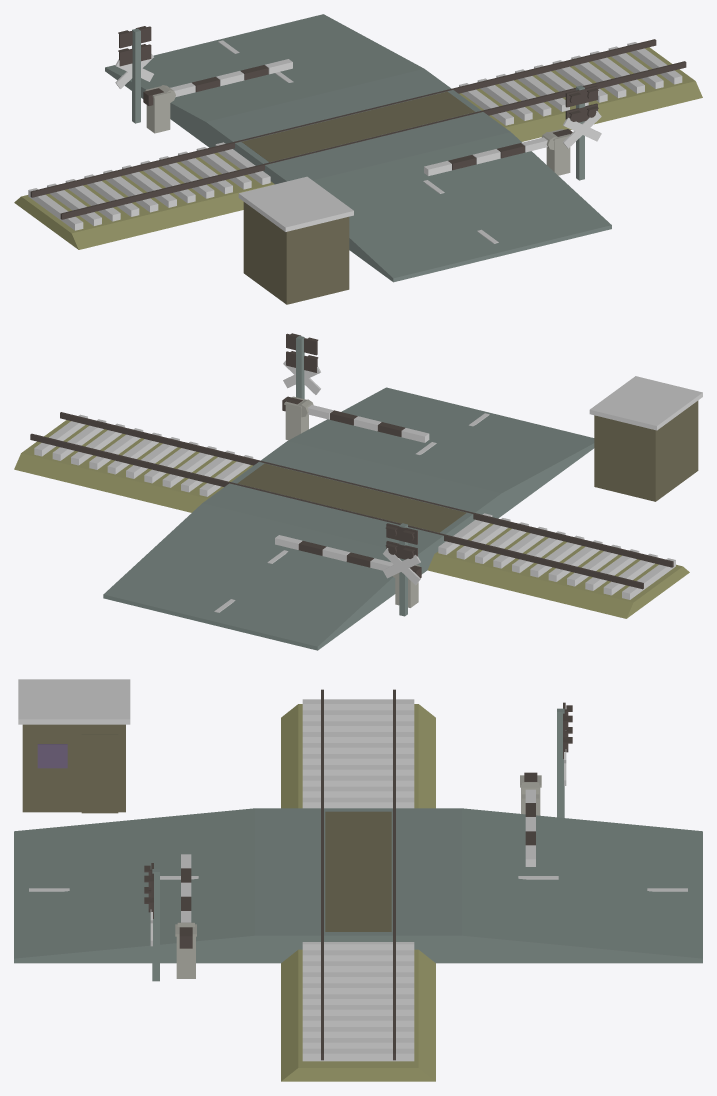
Rendered from SM_PasoNivel_90_v1_FocosDobles_LOD0.fbx.
3 views of the same model, one above another, from view 1: azimuth 30°, elevation 25°; view 2: azimuth 150°, elevation 25°; view 3: azimuth 270°, elevation 25° (orthographic). The views are drawn at different scales.
Visible parts, largest first — view 1: SM_paso_nivel_kit_v1_LOD0, Barrera_2, Barrera_1; view 2: SM_paso_nivel_kit_v1_LOD0, Barrera_1, Barrera_2; view 3: SM_paso_nivel_kit_v1_LOD0, Barrera_2, Barrera_1.
Part boxes in pixels (x1=…): SM_paso_nivel_kit_v1_LOD0: x1=14, y1=14, x2=702, y2=304; Barrera_2: x1=143, y1=59, x2=292, y2=105; Barrera_1: x1=424, y1=129, x2=572, y2=175; SM_paso_nivel_kit_v1_LOD0: x1=14, y1=333, x2=702, y2=650; Barrera_1: x1=282, y1=396, x2=429, y2=442; Barrera_2: x1=275, y1=535, x2=421, y2=578; SM_paso_nivel_kit_v1_LOD0: x1=14, y1=679, x2=702, y2=1081; Barrera_2: x1=522, y1=772, x2=539, y2=866; Barrera_1: x1=177, y1=854, x2=194, y2=948.
Bounding box in the file's own units: 20 × 2.8 × 16.
